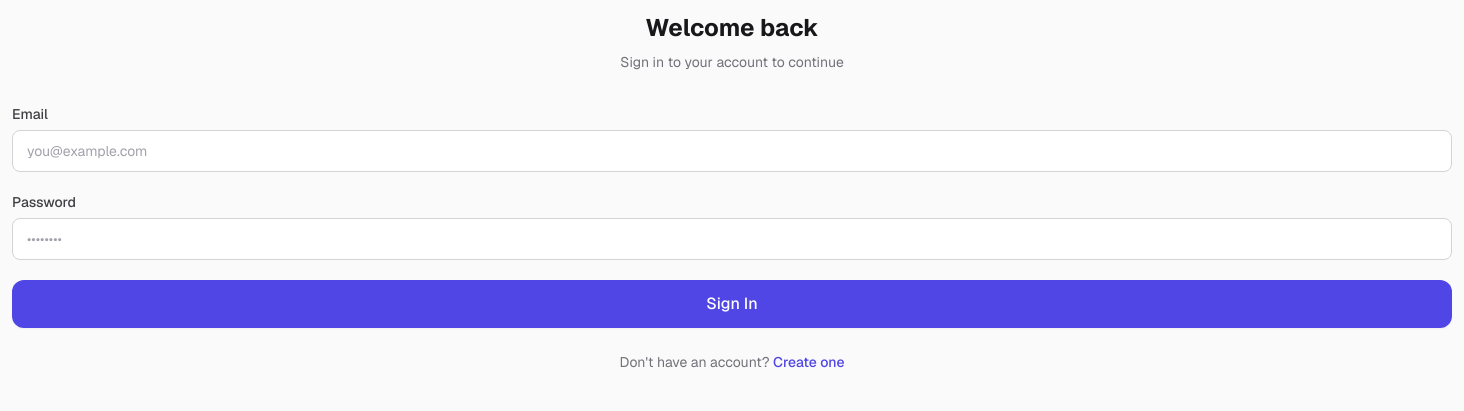
Test: LoginForm › should show validation error for short password
In the field labelled "Email": x=732, y=151 top-left (12, 130), bottom-right (1452, 172), type "test@example.com"
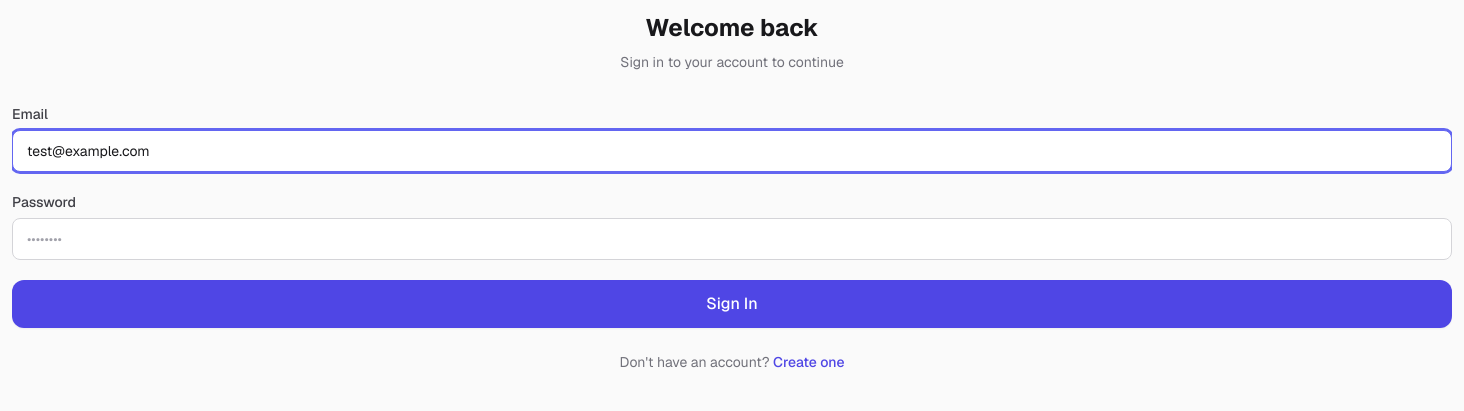
In the password field labelled "Password": x=732, y=239 top-left (12, 218), bottom-right (1452, 260), type "short"
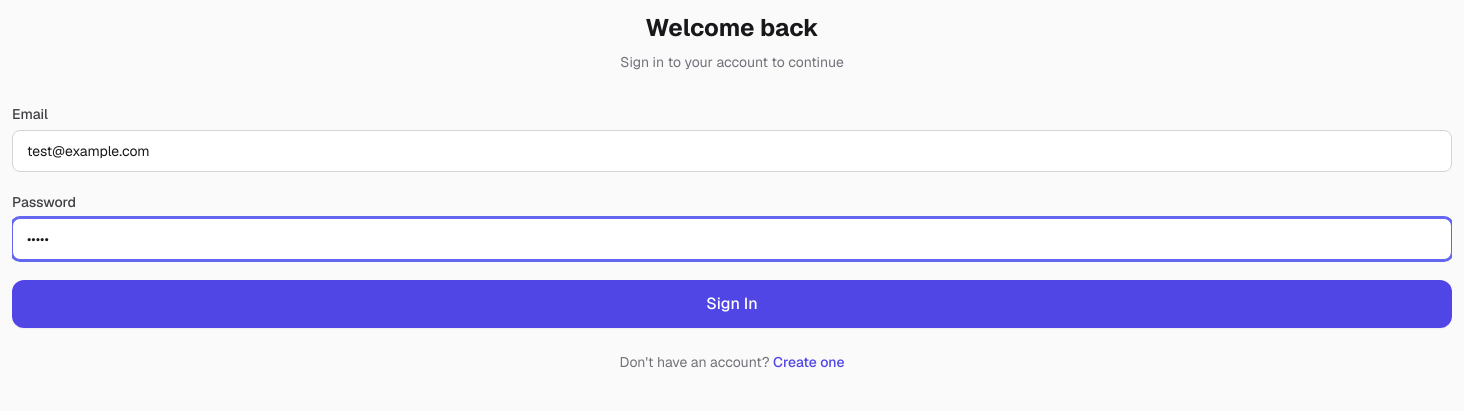
Click the button "Sign In": x=732, y=304 top-left (12, 280), bottom-right (1452, 328)
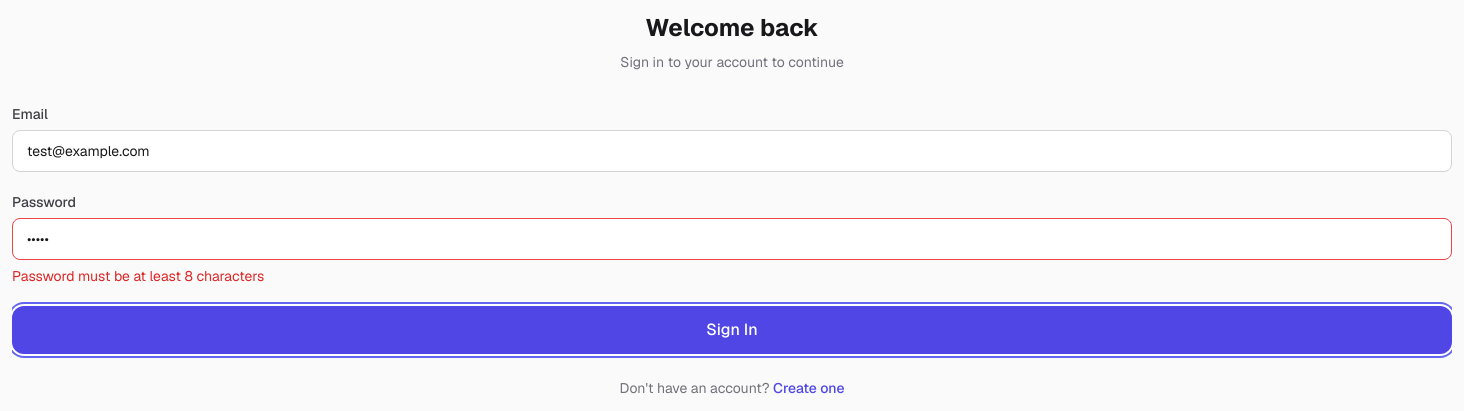
Check: the text "Password must be at least 8 characters" is shown, box top-left (12, 267), bottom-right (264, 285)
